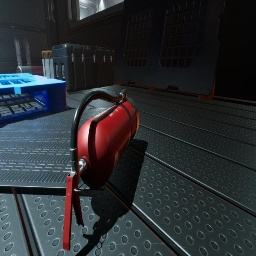FireExtinguisher ]: (63, 89, 139, 251)
NitrogenTank ,: (16, 66, 44, 77)
